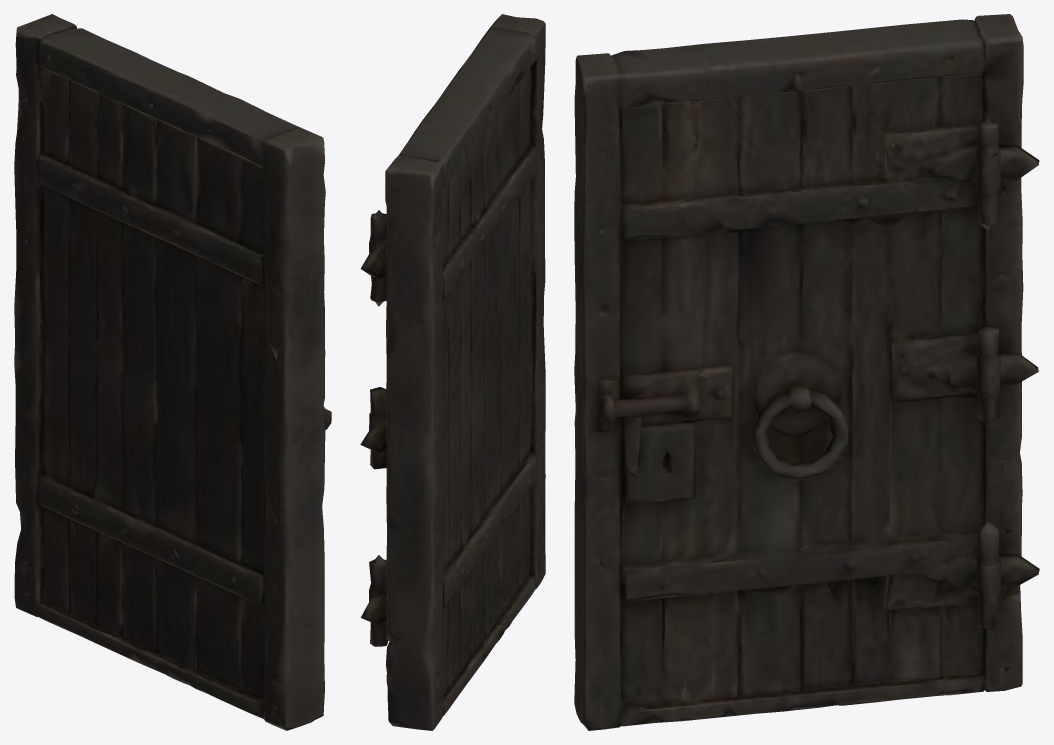
File: heavy-door.glb
The picture shows the model from 3 angles, left to right: view 1: azimuth 30°, elevation 25°; view 2: azimuth 150°, elevation 25°; view 3: azimuth 270°, elevation 25°; orthographic projection. The views are drawn at different scales.
Visible parts, largest first — view 1: tripo_node_4392f8c6-333b-4802-a6be-eec18d6b9229; view 2: tripo_node_4392f8c6-333b-4802-a6be-eec18d6b9229; view 3: tripo_node_4392f8c6-333b-4802-a6be-eec18d6b9229.
Part boxes in pixels (x1,y1,x2,y2): tripo_node_4392f8c6-333b-4802-a6be-eec18d6b9229: (14,14,331,730); tripo_node_4392f8c6-333b-4802-a6be-eec18d6b9229: (360,14,545,730); tripo_node_4392f8c6-333b-4802-a6be-eec18d6b9229: (574,14,1039,730).
Bounding box in the file's own units: 0.2456 × 1 × 0.646.
Materials: 1 (1 with a texture image).
